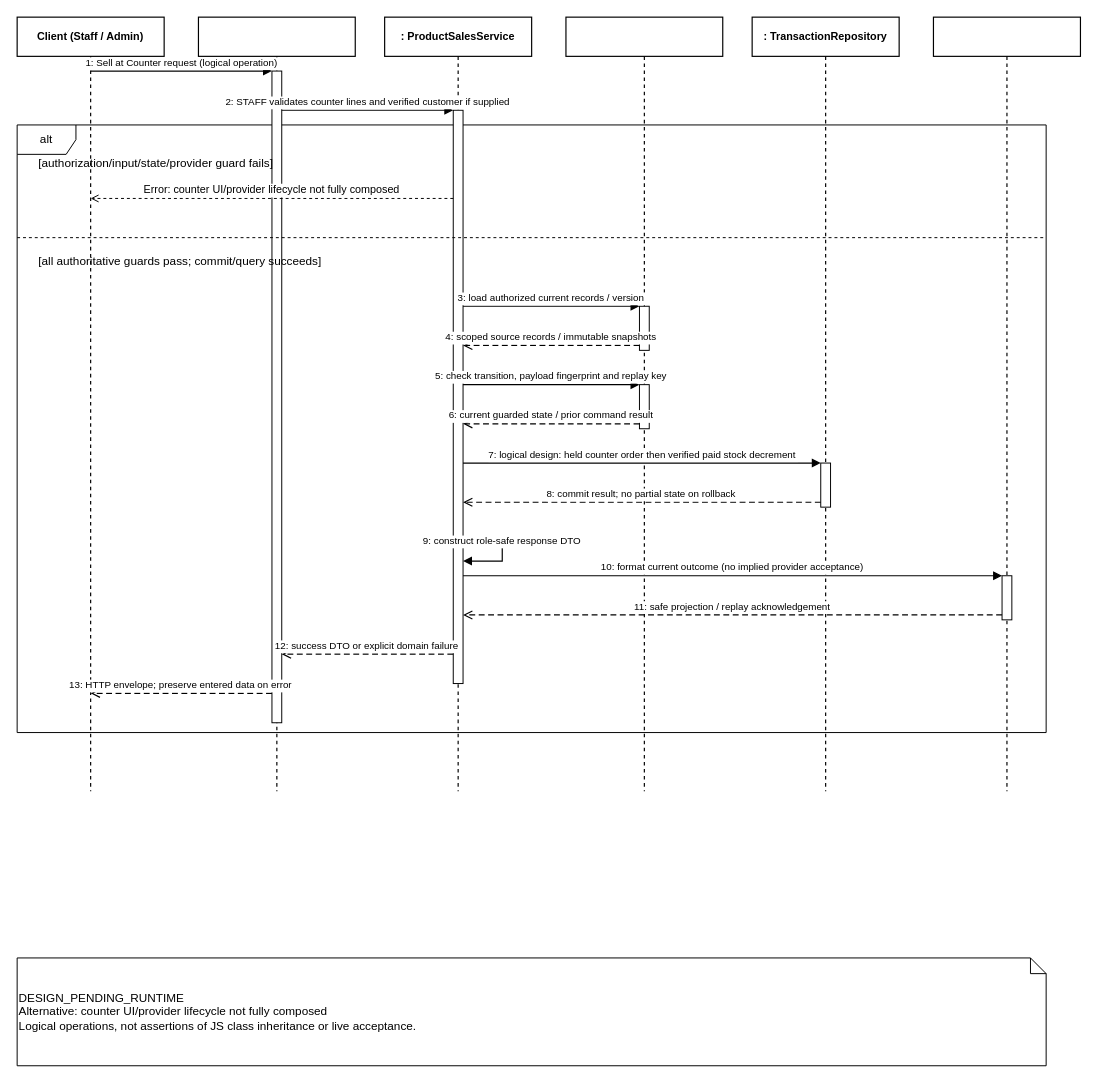
Image size: 1099x1084. Some labels were removed from this diagram. Here are the shapes that lost their labels. From the top down, the box of each, then its label:
(197, 16, 355, 791): : ProductSalesHttpBoundary
(565, 16, 723, 791): : ReadRepository
(932, 16, 1081, 791): : ResultProjection
